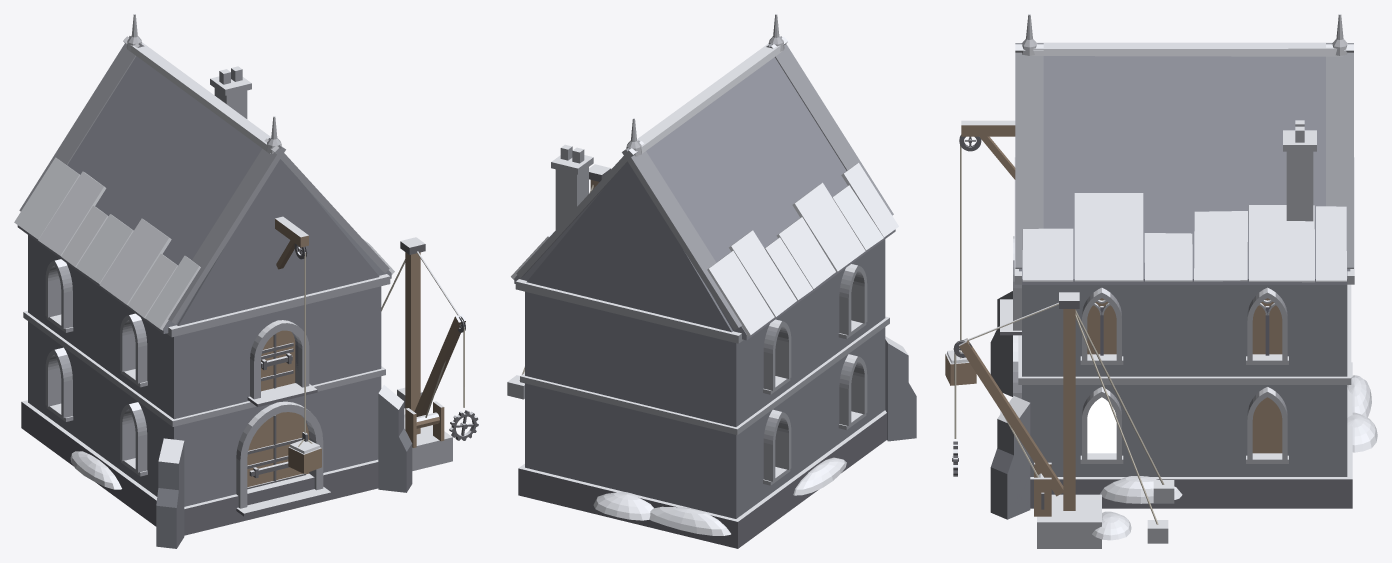
File: AR_Deposito.fbx
3 renders of one model, left to right at view 1: azimuth 30°, elevation 25°; view 2: azimuth 150°, elevation 25°; view 3: azimuth 270°, elevation 25°, orthographic. The views are drawn at different scales.
Parts seen in each view (by area): view 1: AR_Deposito; view 2: AR_Deposito; view 3: AR_Deposito.
Part boxes in pixels (bbox=[...]): AR_Deposito: bbox=[14, 14, 478, 548]; AR_Deposito: bbox=[507, 14, 916, 548]; AR_Deposito: bbox=[945, 14, 1377, 548].
Bounding box in the file's own units: 14.31 × 16.26 × 14.63.
